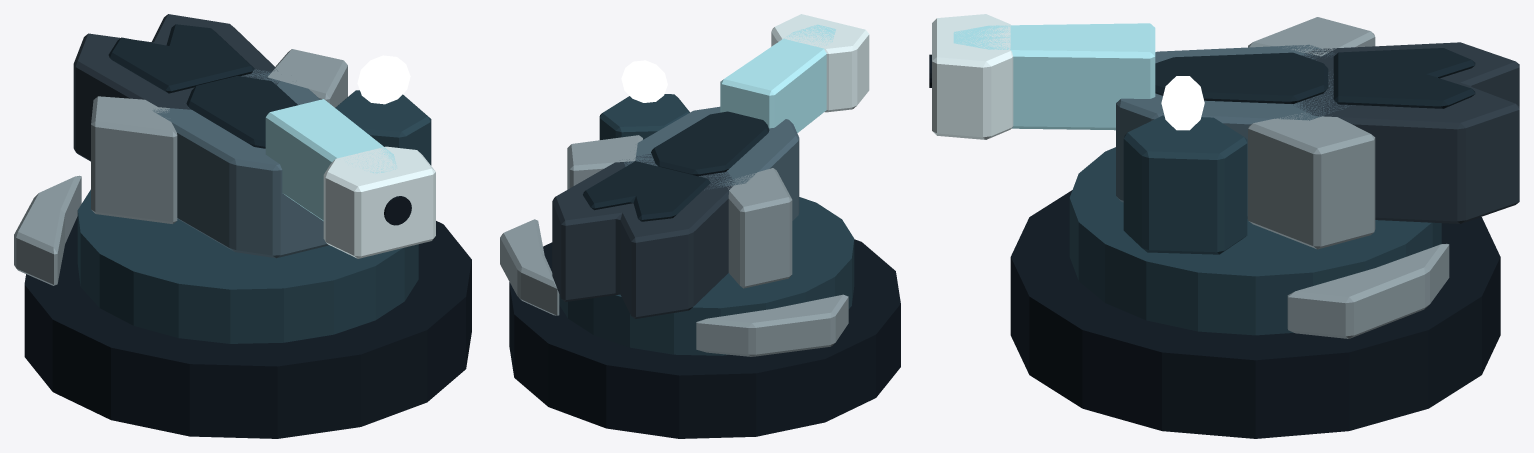
The model's file is sniper.glb.
3 views of the same model, side by side, from view 1: azimuth 30°, elevation 25°; view 2: azimuth 150°, elevation 25°; view 3: azimuth 270°, elevation 25° (orthographic). The views are drawn at different scales.
Parts seen in each view (by area): view 1: base, offset optic, bore; view 2: base, offset optic, bore; view 3: base, offset optic, bore.
Boxes of the visible parts, x1,y1,x2,y2 form: base: (14,175,471,438); offset optic: (73,14,431,258); bore: (265,99,435,258); base: (500,197,900,438); offset optic: (552,60,799,318); bore: (720,14,869,132); base: (1010,147,1500,438); offset optic: (1116,17,1519,254); bore: (929,14,1155,139).
Size of the model in its own units: 0.79 by 0.555 by 0.9526.
